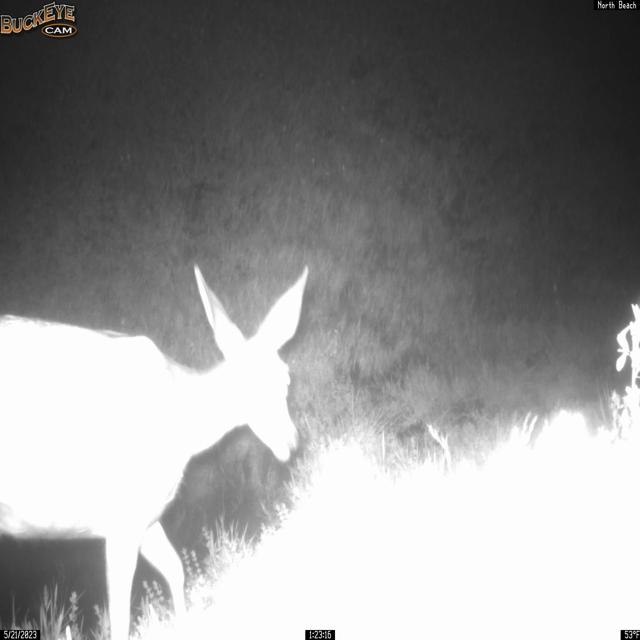deer: (0, 262, 309, 640)
